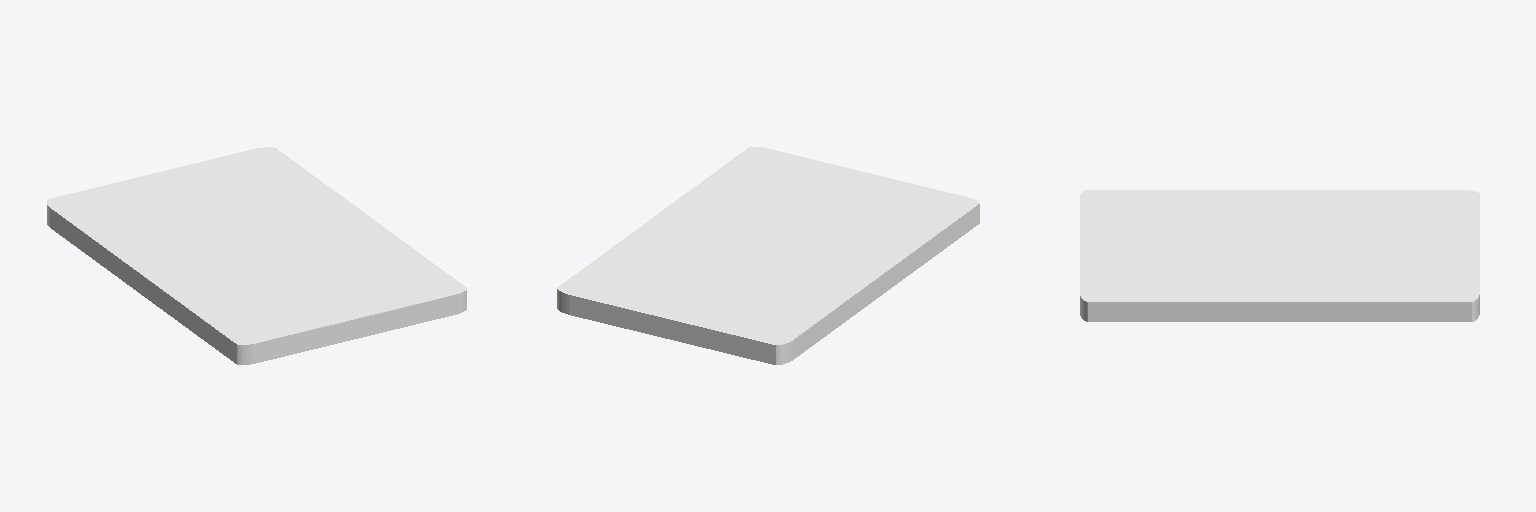
Rendered from tinker.obj.
The picture shows the model from 3 angles: view 1: azimuth 30°, elevation 25°; view 2: azimuth 150°, elevation 25°; view 3: azimuth 270°, elevation 25°; orthographic projection.
Parts seen in each view (by area): view 1: obj_0; view 2: obj_0; view 3: obj_0.
Part boxes in pixels (left/top/right/bottom): obj_0: left=47, top=147, right=466, bottom=364; obj_0: left=557, top=147, right=979, bottom=364; obj_0: left=1080, top=190, right=1479, bottom=321.
Bounding box in the file's own units: 12 × 1 × 18.